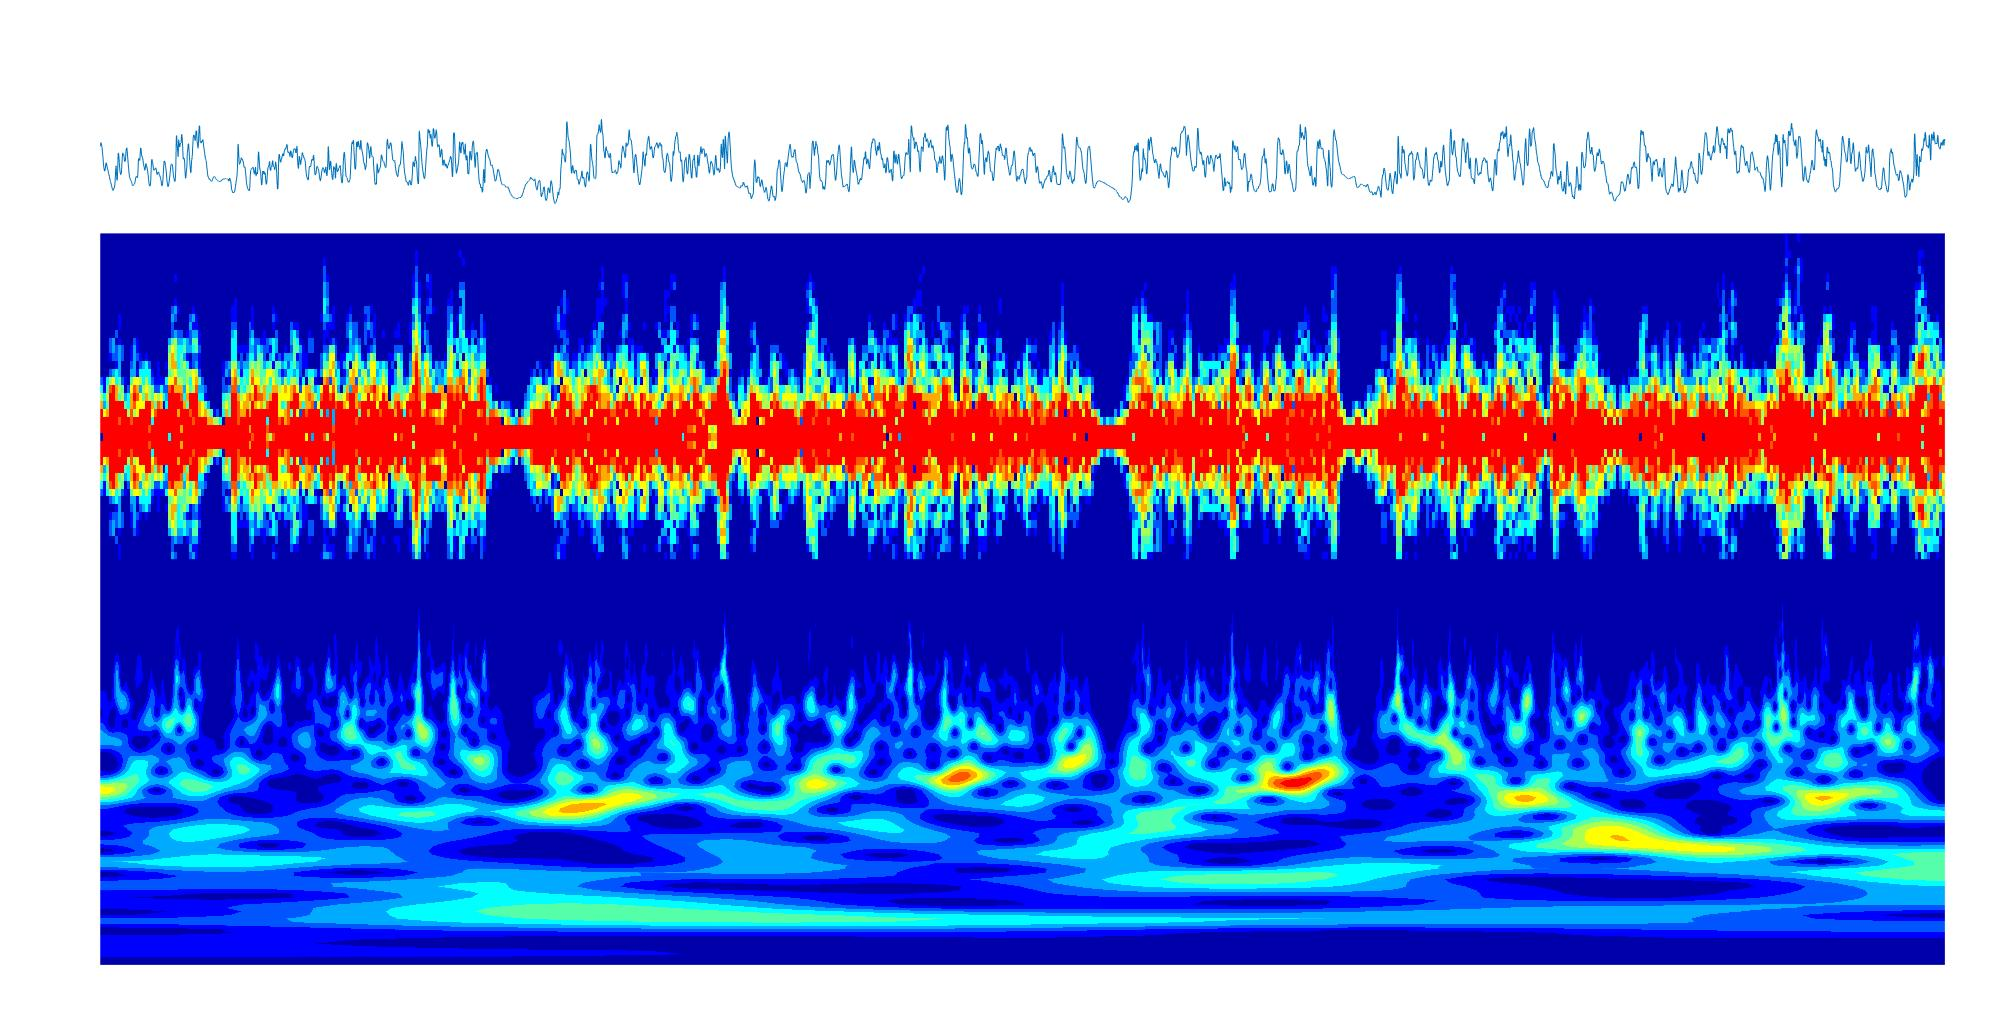TURBULENT: (1382, 233, 1944, 965), (538, 235, 1088, 965), (225, 231, 484, 965), (1135, 235, 1342, 963)
